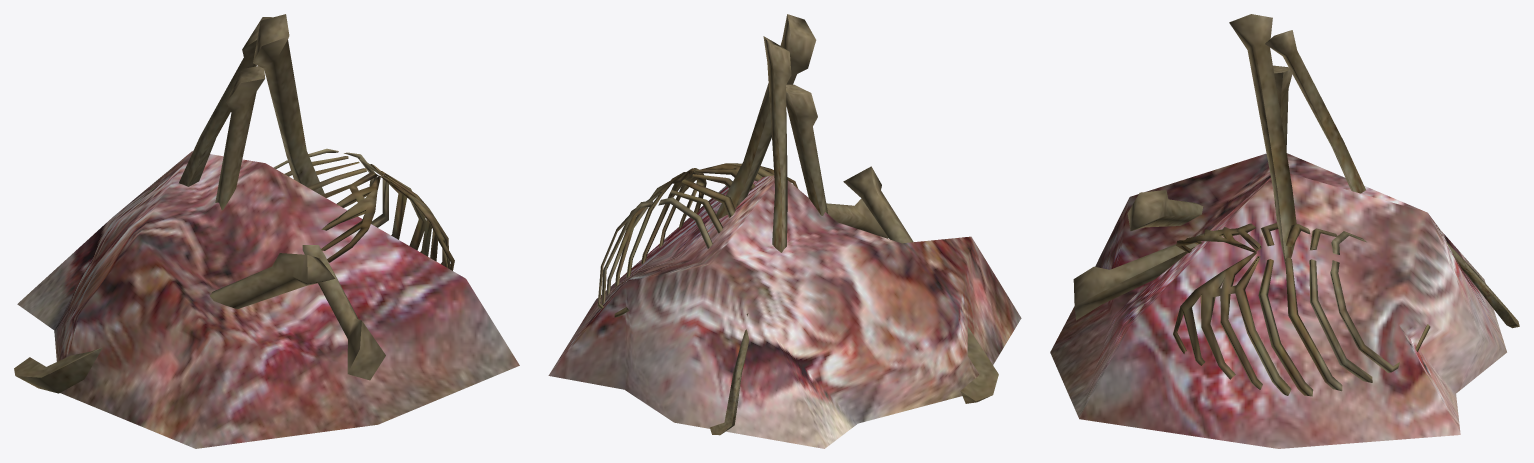
Rendered from butcheredGeneric1.dae.
3 views of the same model, side by side, from view 1: azimuth 30°, elevation 25°; view 2: azimuth 150°, elevation 25°; view 3: azimuth 270°, elevation 25° (orthographic). The views are drawn at different scales.
Visible parts, largest first — view 1: genericButchered; view 2: genericButchered; view 3: genericButchered.
Part boxes in pixels (<box>): genericButchered: <box>14,14,519,448</box>; genericButchered: <box>548,14,1021,448</box>; genericButchered: <box>1050,14,1519,448</box>.
Bounding box in the file's own units: 0.6105 × 0.5154 × 0.5663.
1 material, 1 textured.
